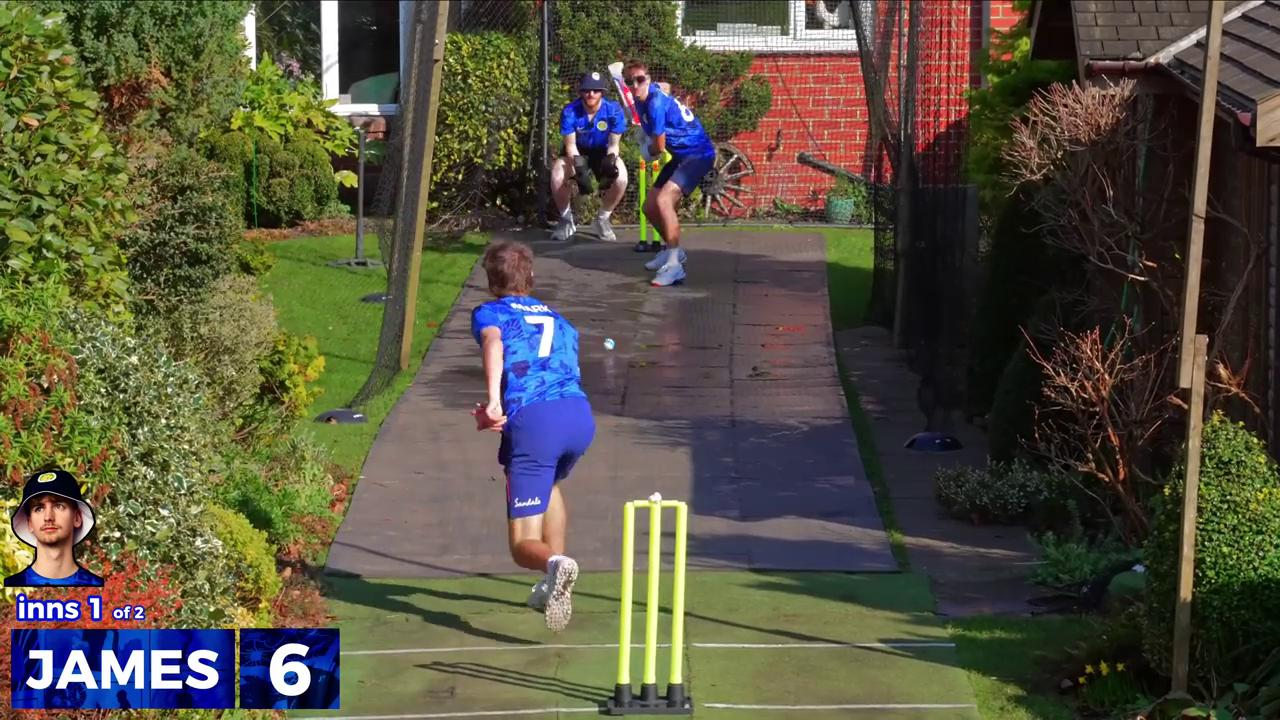ball: (603, 332, 625, 358)
